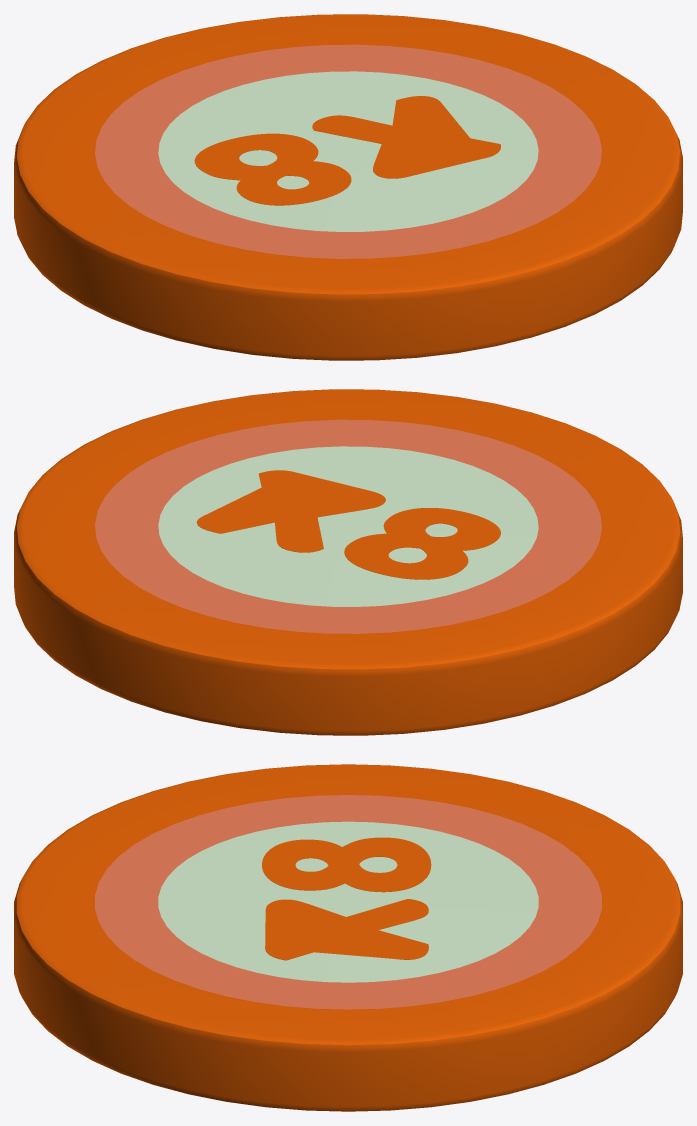
The picture shows the model from 3 angles, top to bottom: view 1: azimuth 30°, elevation 25°; view 2: azimuth 150°, elevation 25°; view 3: azimuth 270°, elevation 25°; orthographic projection.
Parts seen in each view (by area): view 1: X8; view 2: X8; view 3: X8.
Part boxes in pixels (x1,y1,x2,y2): X8: (14, 14, 682, 360); X8: (14, 389, 682, 735); X8: (14, 764, 682, 1111).
Bounding box in the file's own units: 321 × 38.46 × 320.
